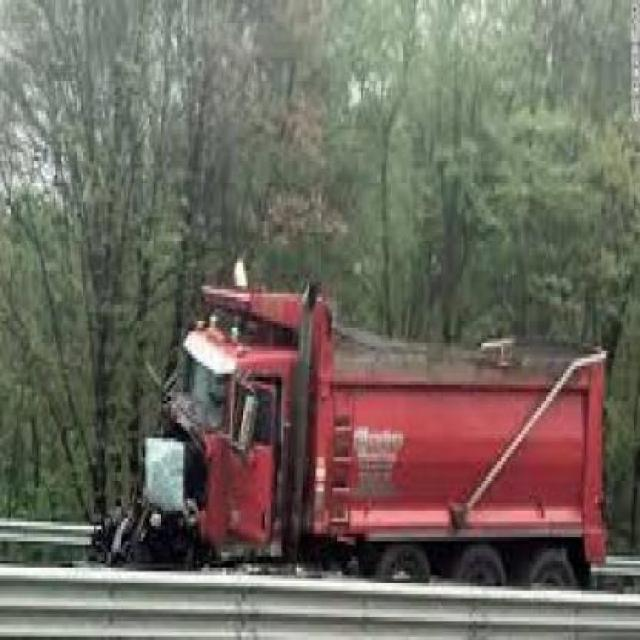accident: (74, 247, 368, 618)
